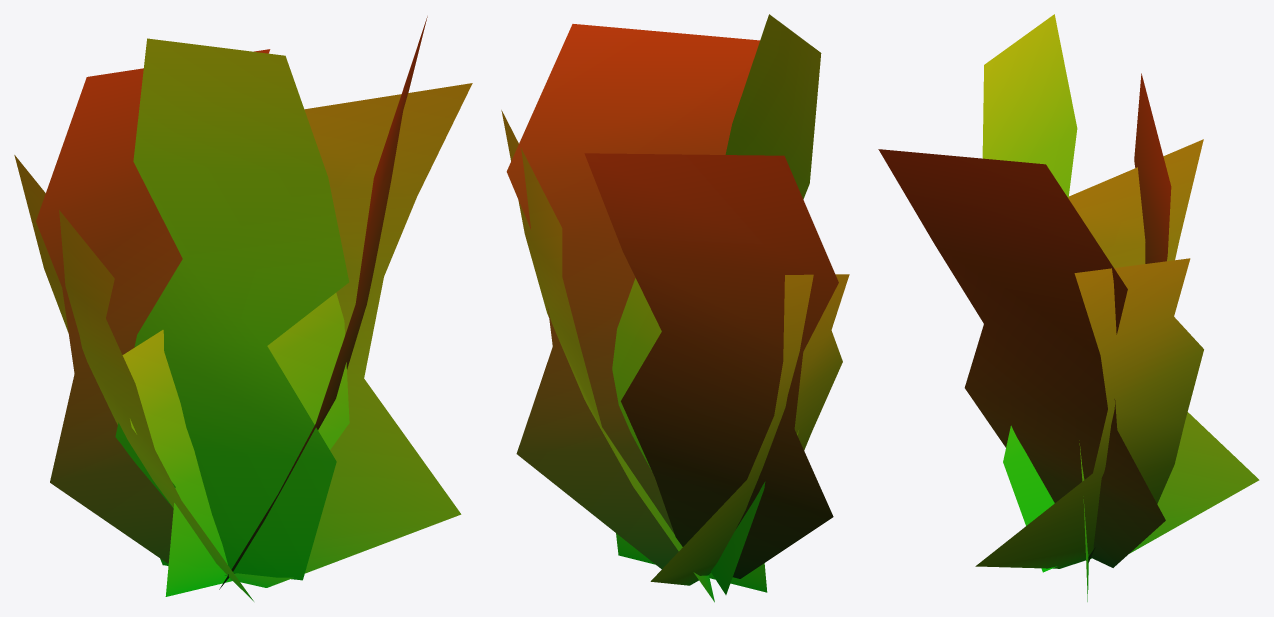
Rendered from Var8Hi9.fbx.
The picture shows the model from 3 angles, left to right: view 1: azimuth 30°, elevation 25°; view 2: azimuth 150°, elevation 25°; view 3: azimuth 270°, elevation 25°; orthographic projection. The views are drawn at different scales.
Parts seen in each view (by area): view 1: bend1; view 2: bend1; view 3: bend1.
Part boxes in pixels (x1=…): bend1: x1=14, y1=16, x2=472, y2=601; bend1: x1=501, y1=14, x2=849, y2=602; bend1: x1=878, y1=14, x2=1259, y2=601.
Size of the model in its own units: 1.27 by 1.76 by 1.21.
